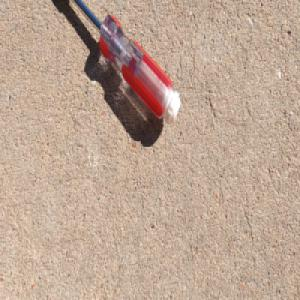Screwdriver: (68, 0, 182, 126)
